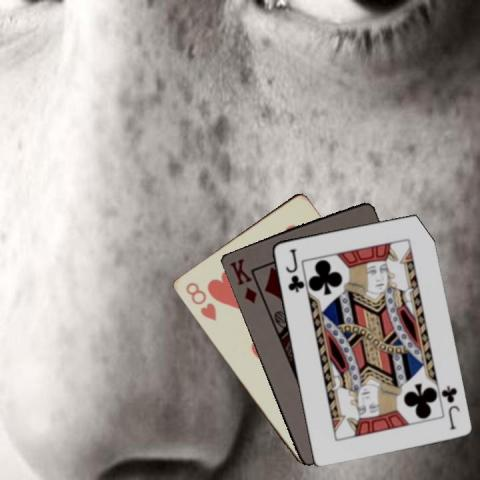8h: (182, 279, 218, 322)
Jc: (438, 382, 461, 431), (282, 245, 304, 294)
Kd: (226, 255, 258, 306)
